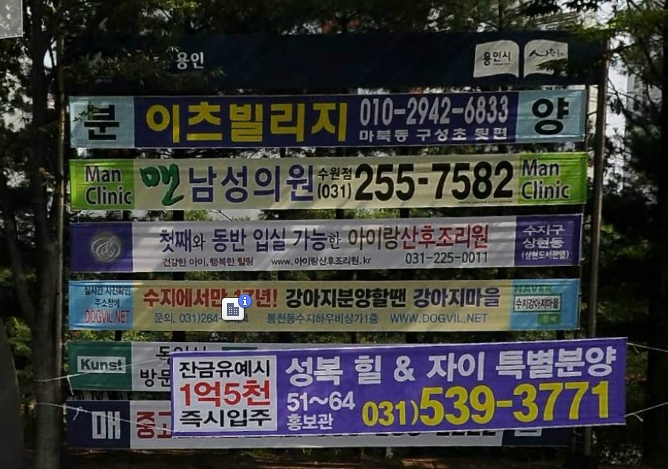banner: (166, 334, 636, 430), (55, 209, 596, 279), (59, 148, 597, 216), (50, 274, 587, 337), (64, 89, 592, 147)
